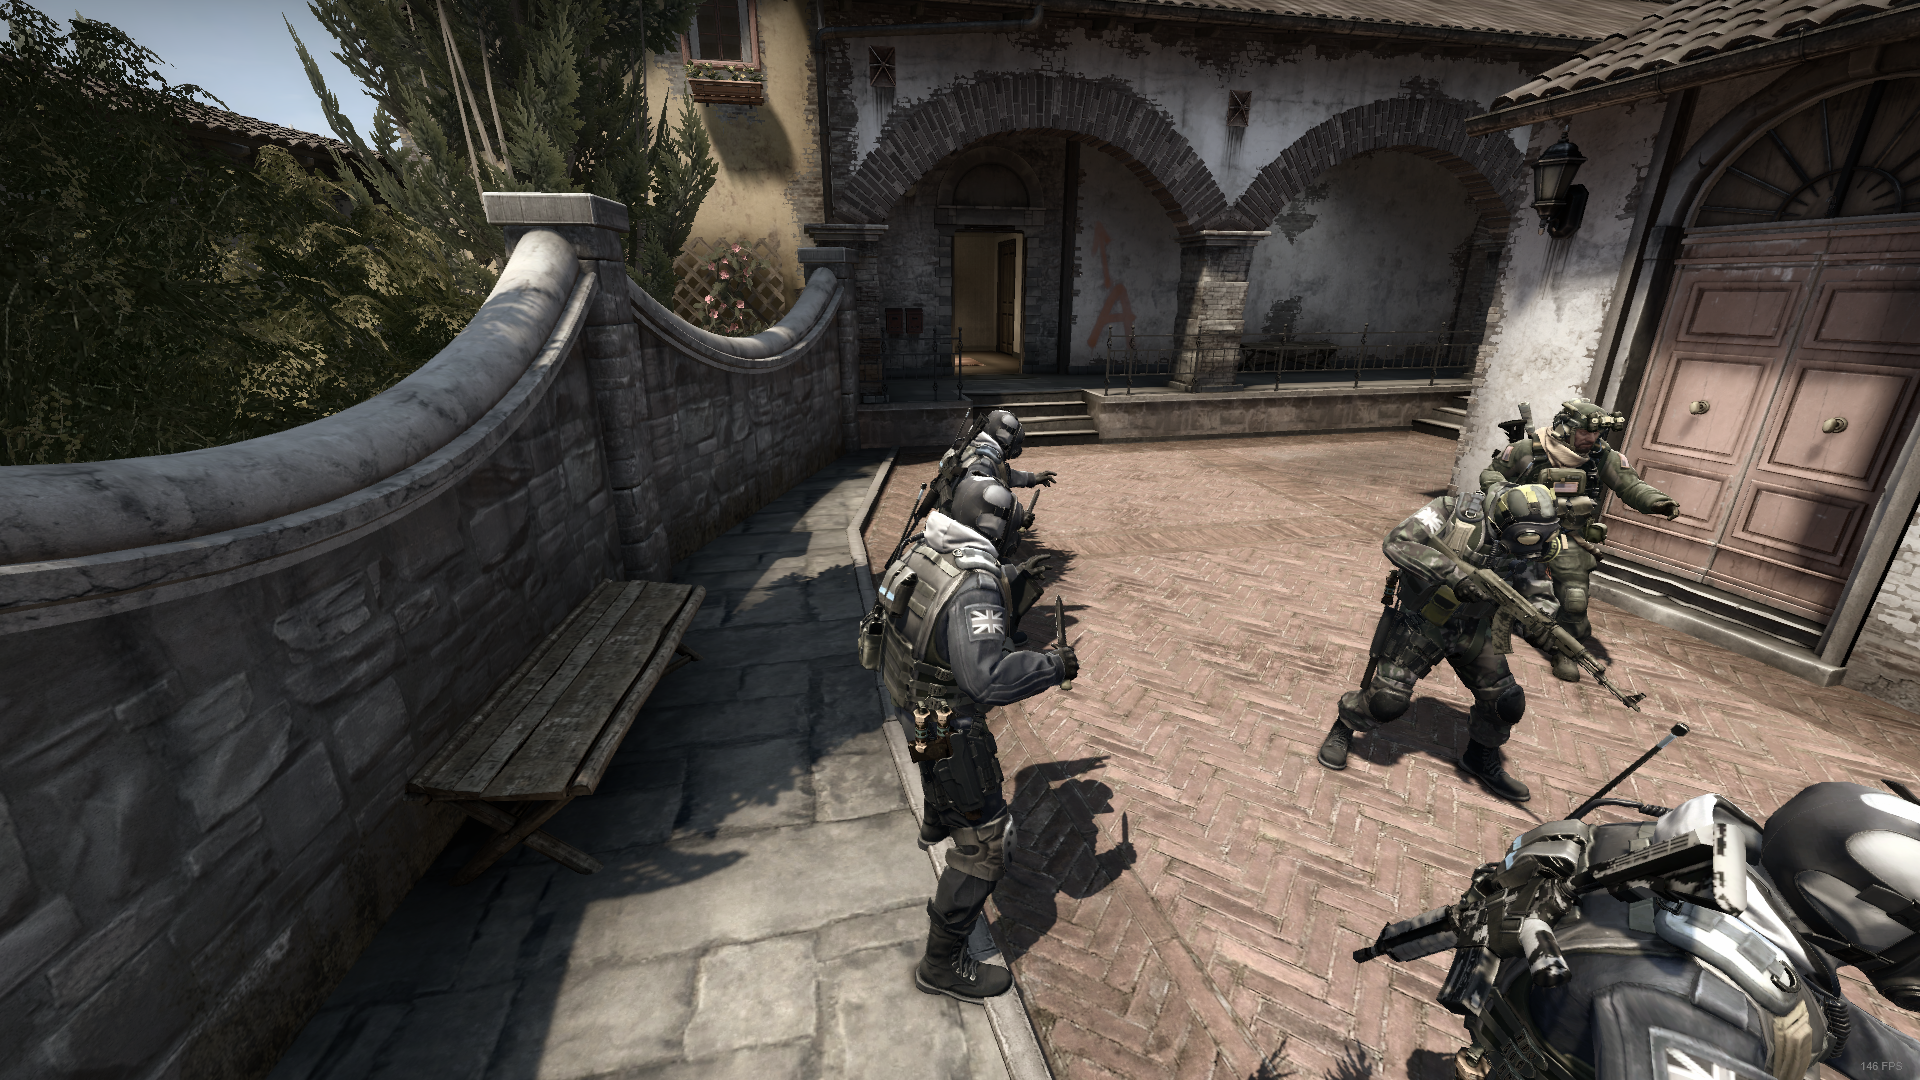ct: (1443, 770, 1920, 1080), (864, 469, 1091, 1017)
